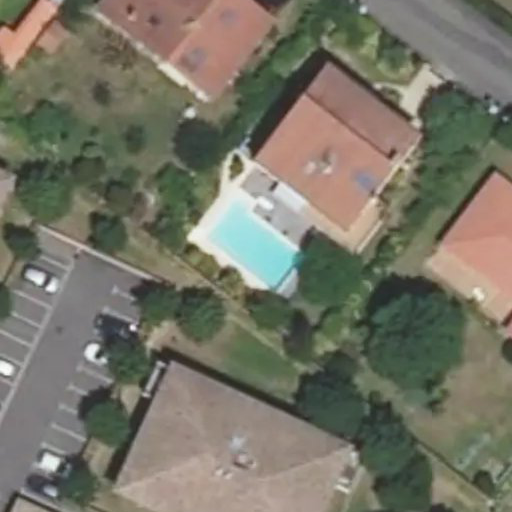pool: (204, 235, 312, 248)
